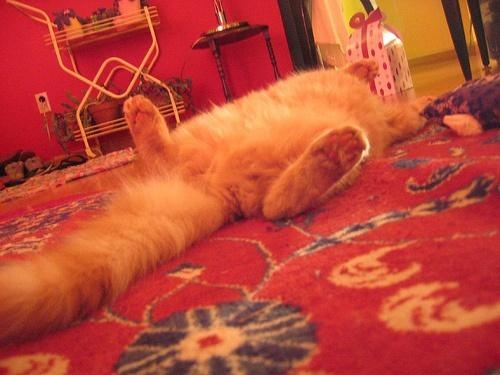cat: (3, 61, 433, 344)
